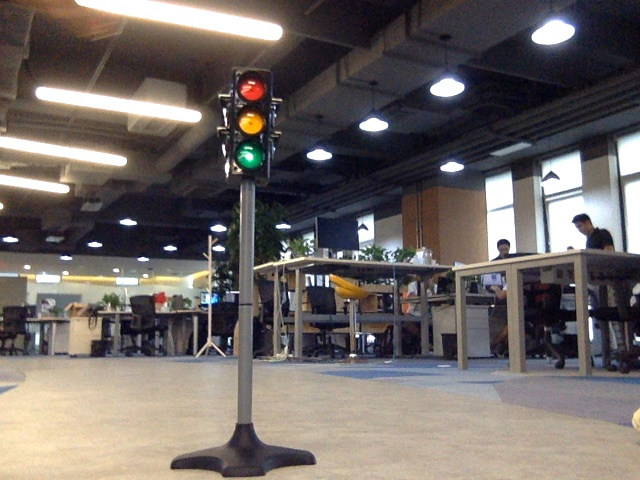green: (231, 76, 264, 175)
